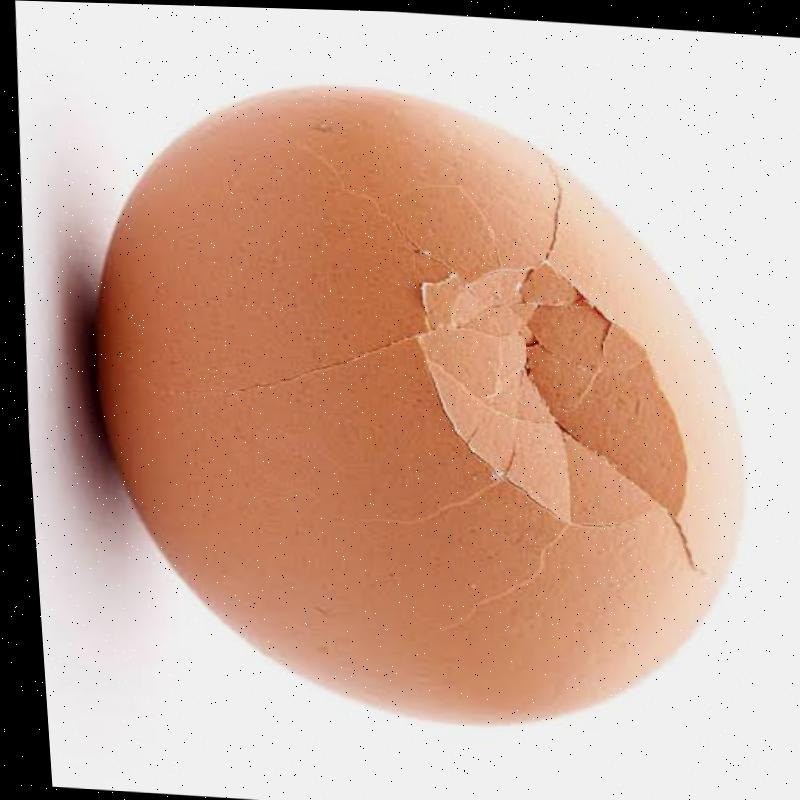egg shell: (88, 82, 746, 724)
